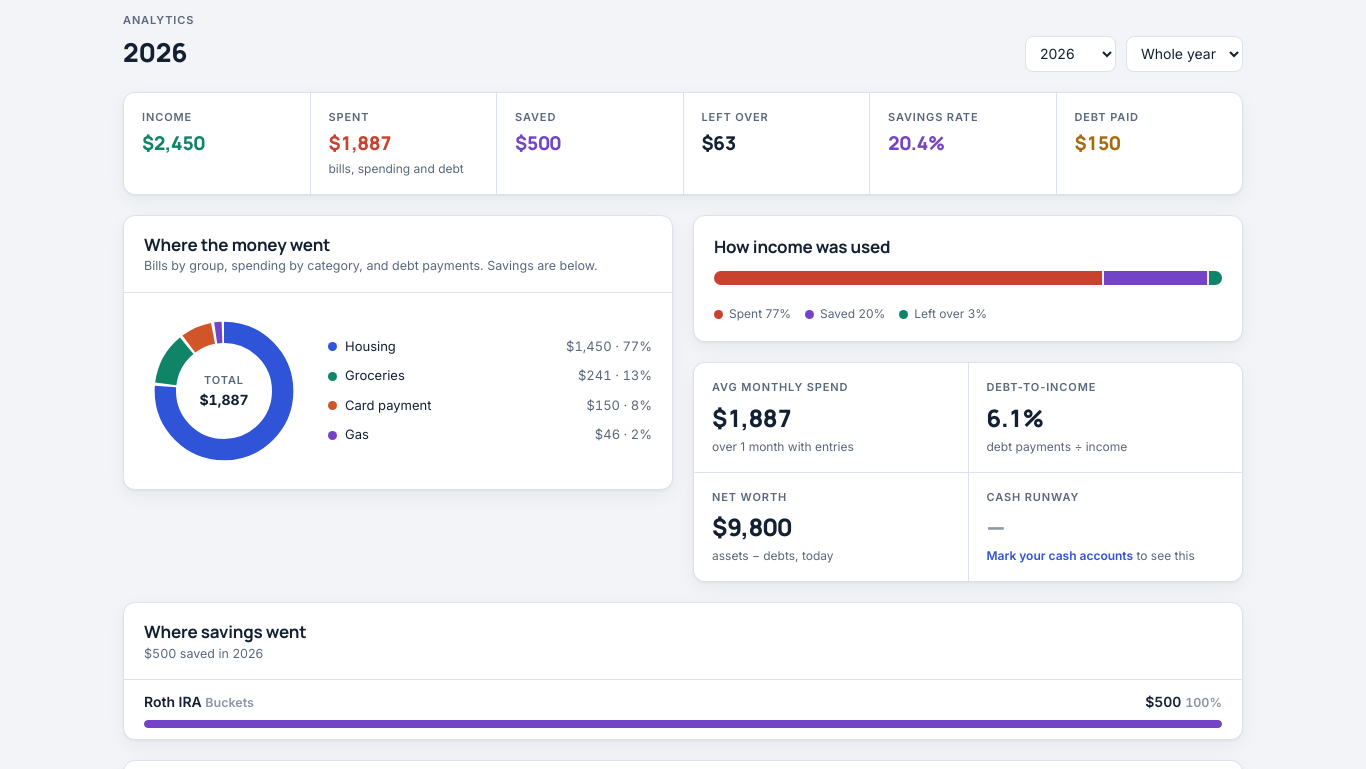
Test: analytics page › shows figures, breakdowns and filters by month
Expected: the heading "2026" is shown, [123,32,194,72]
Expected: the element with class "fig" shows "$2,450", [142,130,205,156]
Select "December" in the dropdown named "Month": x=1184, y=54 [1126,36,1243,72]
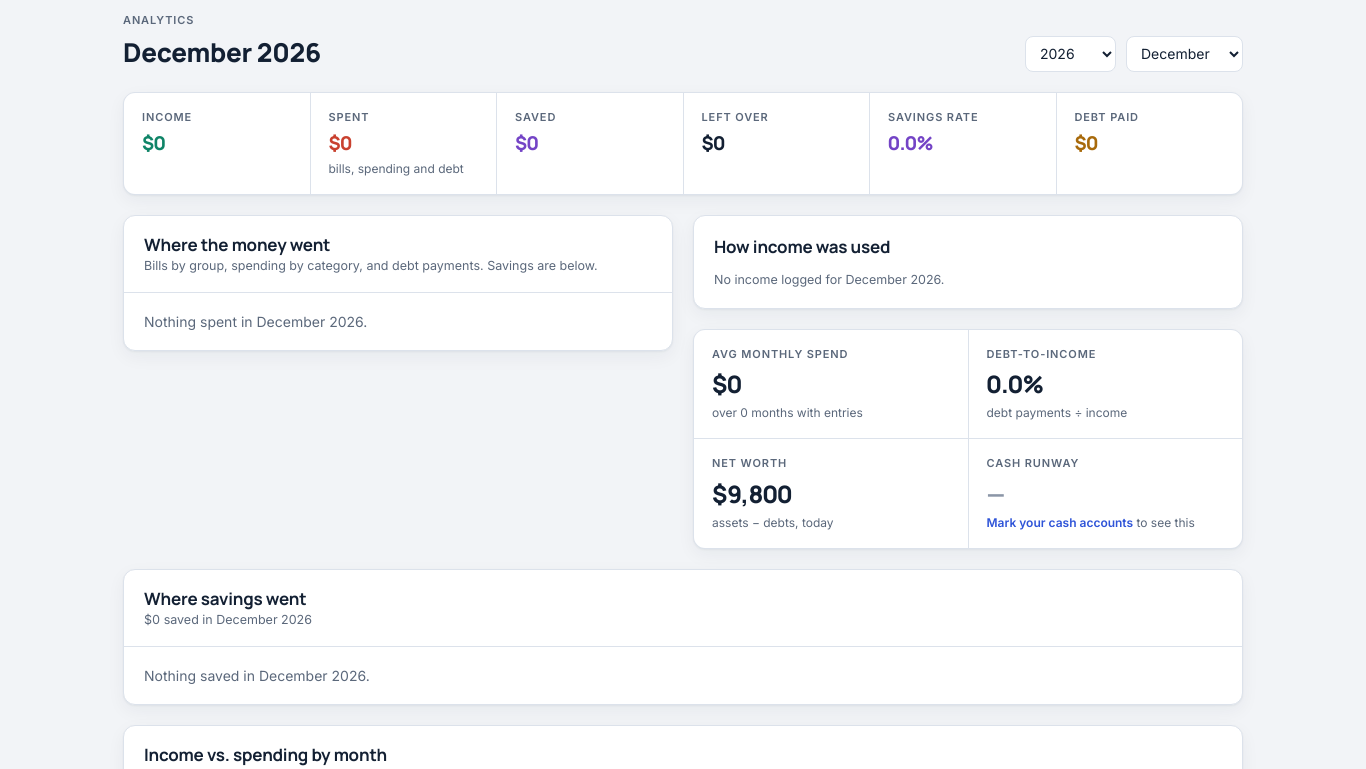
Expected: the element with class "fig" shows "$0", [142,130,165,156]
